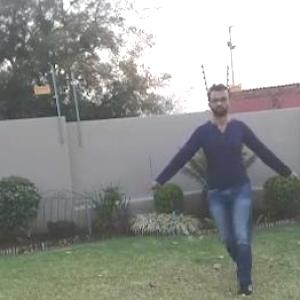land: (162, 93, 290, 269)
